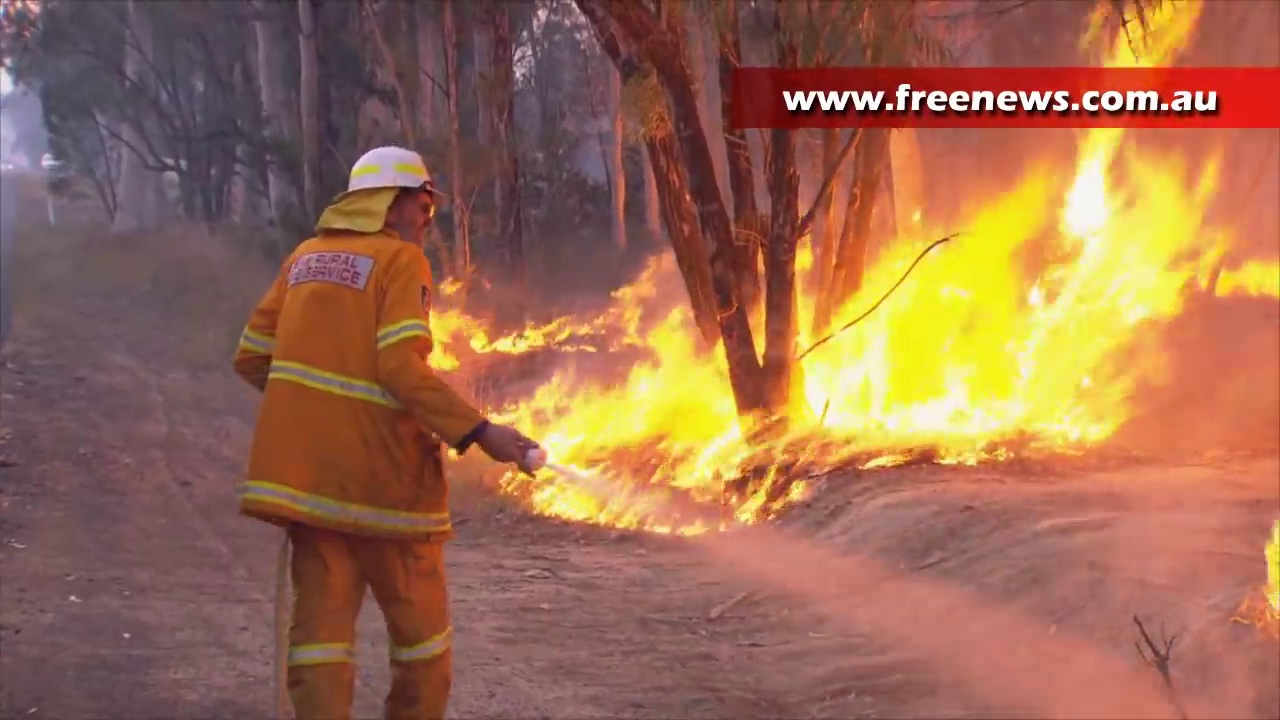fire: (796, 124, 1208, 470), (496, 349, 803, 537), (423, 303, 579, 368), (1108, 1, 1194, 68), (608, 270, 652, 336), (1227, 260, 1280, 294)
